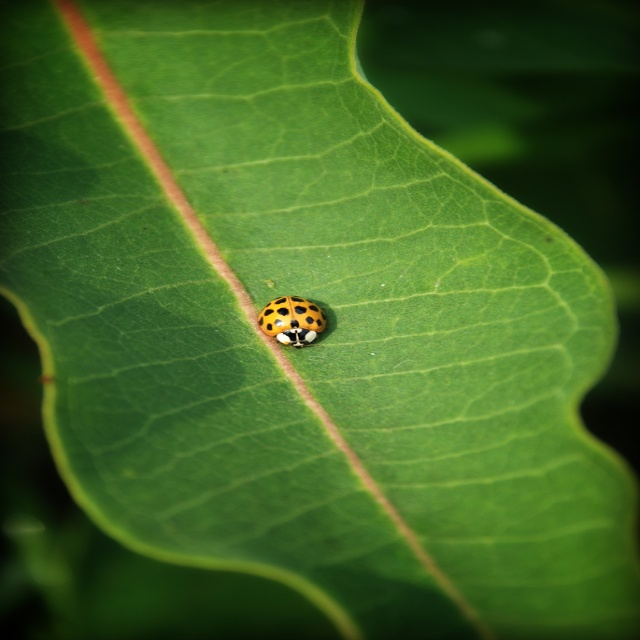Ladybug: (246, 291, 344, 354)
